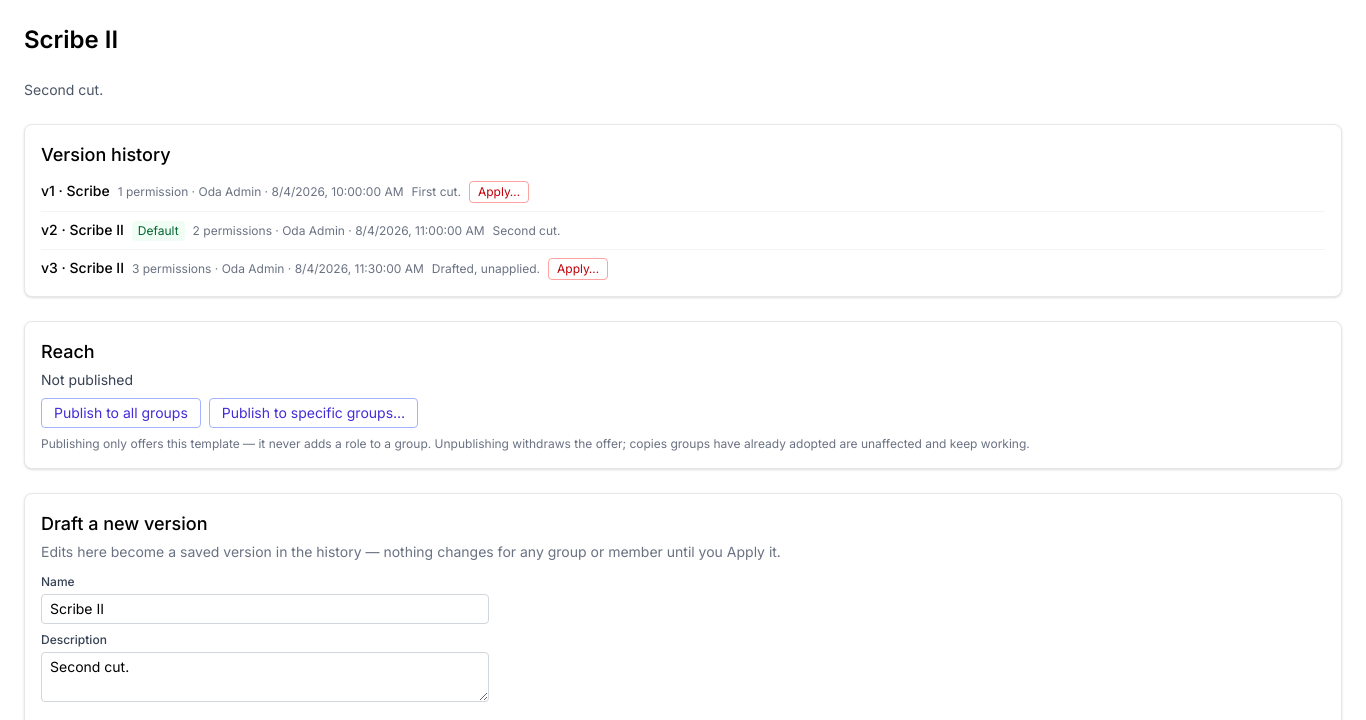
Scenario: AdminRoleTemplateDetail (FEAT-H040 STORY-2/3/4) › an apply refusal renders verbatim
The width and height of the screenshot is (1366, 720).
Click the button with test id "apply-version-3" at (578, 269), box [548,258,608,280]
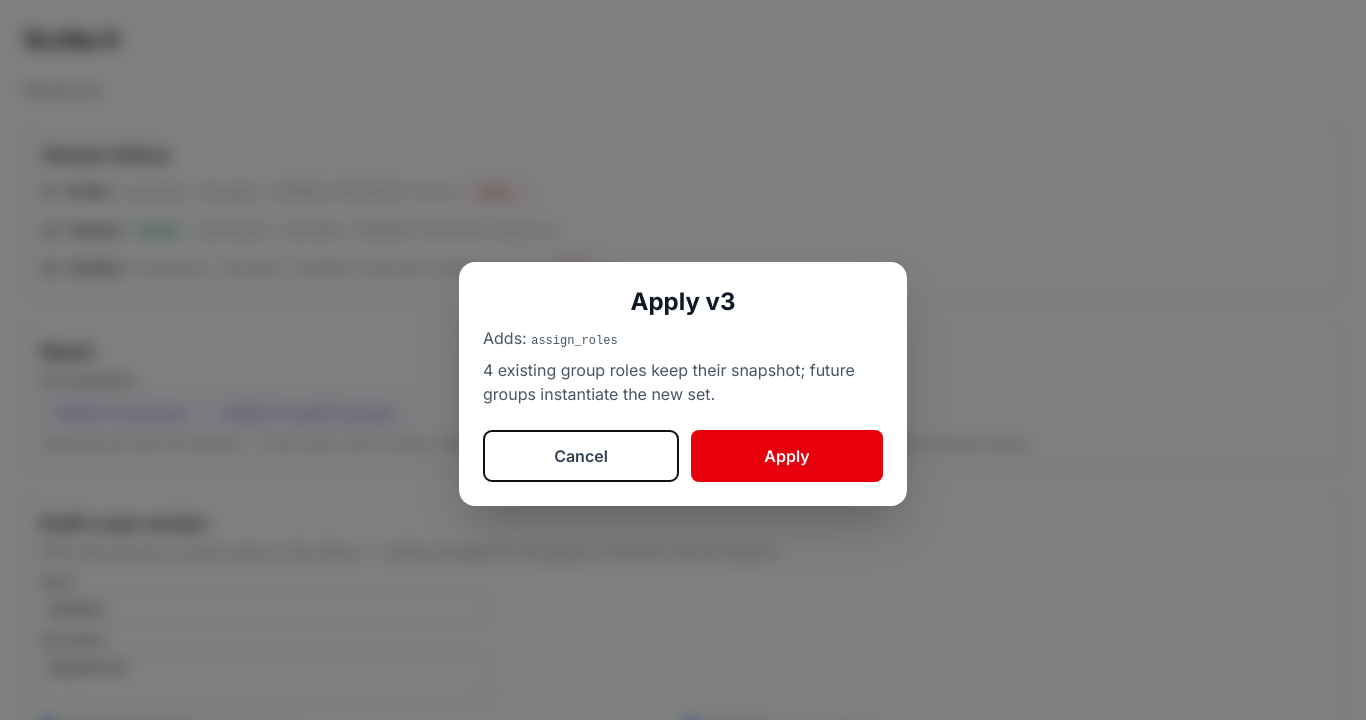
Click the button with test id "confirm-modal-confirm" at (787, 456), box [691,430,883,482]
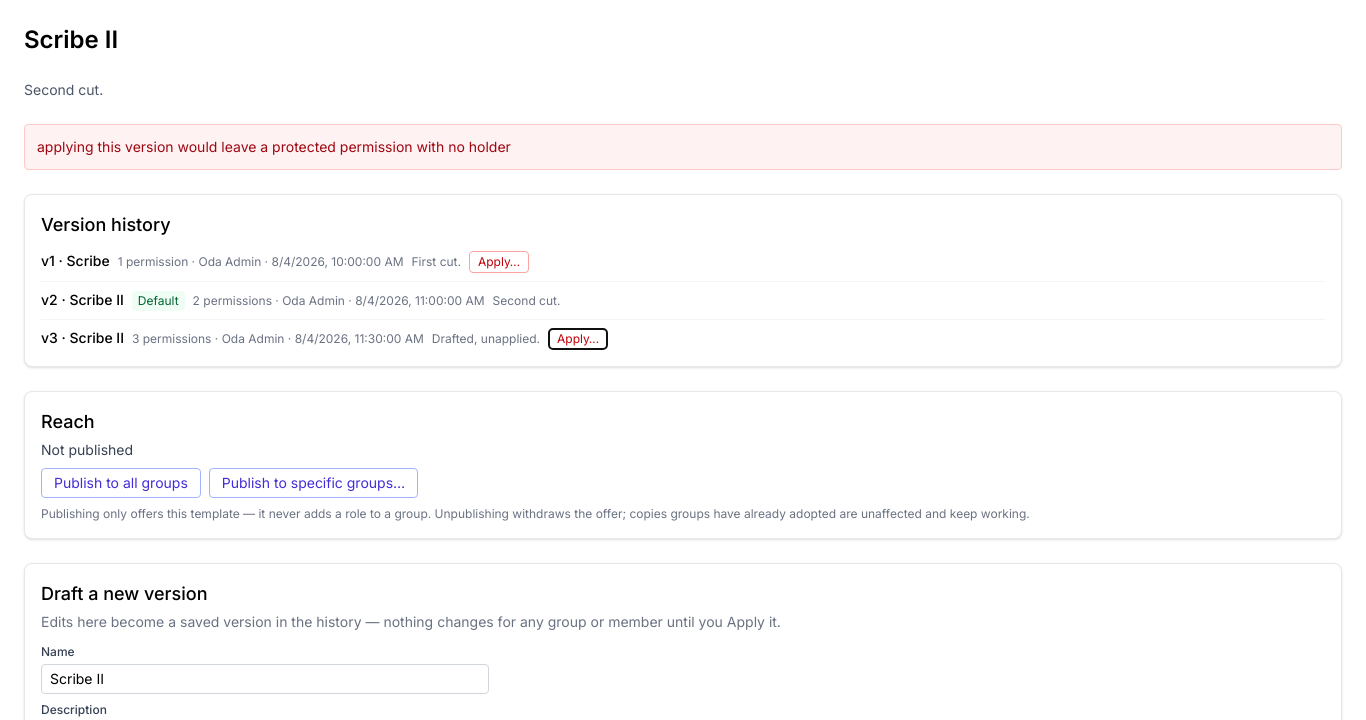
expect the message with test id "ceremony-outcome" reads "applying this version would leave a protected permission with no holder": met, box [37,138,511,155]
